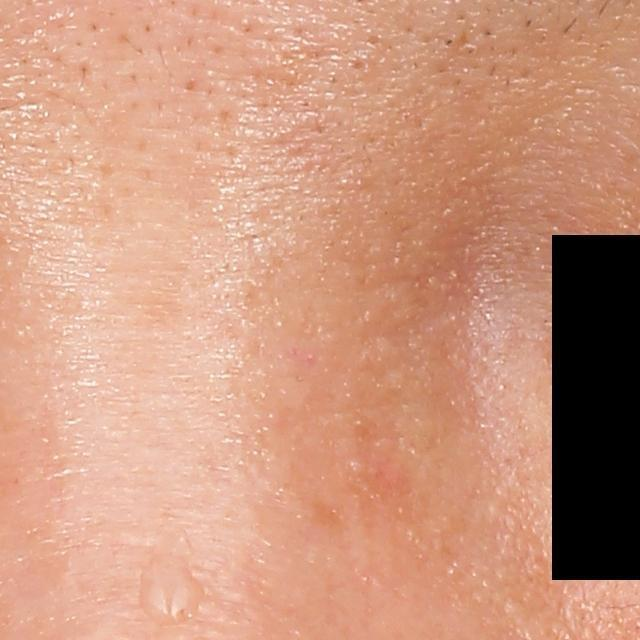comedo: (350, 55, 369, 73)
other: (140, 521, 198, 618)
